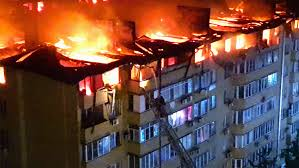fire: (13, 4, 289, 86)
